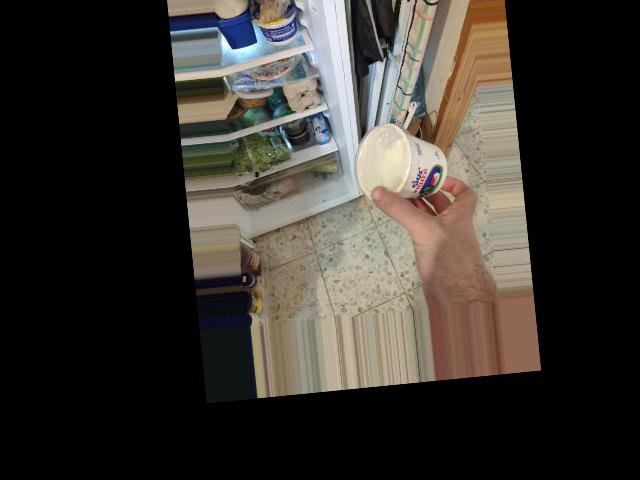cotage: (359, 123, 450, 207)
